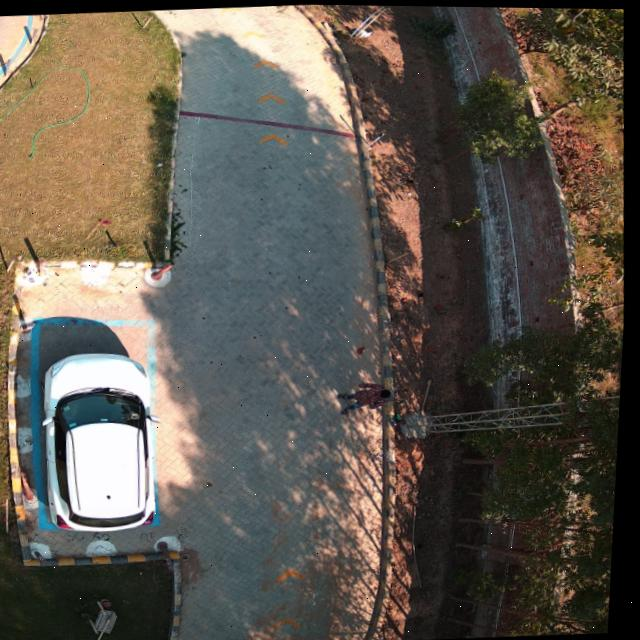car: (47, 350, 161, 532)
